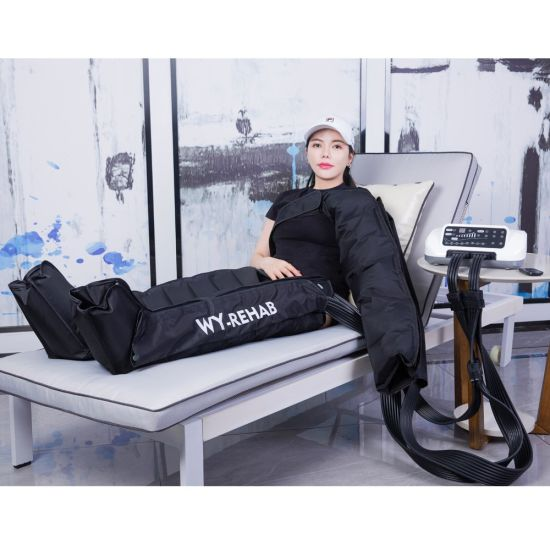bedside_table: (417, 250, 550, 451)
patient: (6, 114, 421, 374)
sequential_compression: (381, 224, 536, 484)
